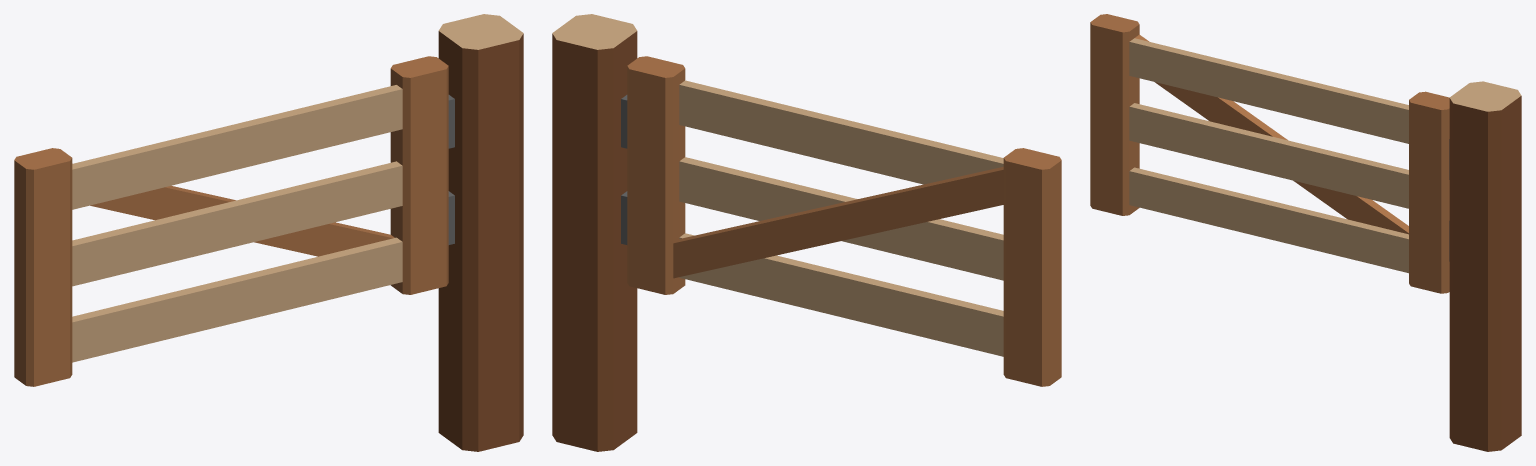
Rendered from Prop_Decorative_Fence_Gate_1.obj.
3 renders of one model, left to right at view 1: azimuth 30°, elevation 25°; view 2: azimuth 150°, elevation 25°; view 3: azimuth 330°, elevation 25°, orthographic. The views are drawn at different scales.
Visible parts, largest first — view 1: Fence_Gate_Rail, Fence_Gate_Post_Side, Fence_Gate_Side, Fence_Gate_Crossrail, Fence_Gate_Post_Top, Fence_Gate_Hinge; view 2: Fence_Gate_Rail, Fence_Gate_Post_Side, Fence_Gate_Side, Fence_Gate_Crossrail, Fence_Gate_Post_Top, Fence_Gate_Hinge; view 3: Fence_Gate_Rail, Fence_Gate_Post_Side, Fence_Gate_Side, Fence_Gate_Crossrail, Fence_Gate_Post_Top.
Part boxes in pixels (x1=…): Fence_Gate_Rail: x1=72, y1=85, x2=402, y2=362; Fence_Gate_Post_Side: x1=438, y1=31, x2=523, y2=451; Fence_Gate_Side: x1=14, y1=56, x2=448, y2=386; Fence_Gate_Crossrail: x1=90, y1=185, x2=394, y2=256; Fence_Gate_Post_Top: x1=438, y1=14, x2=523, y2=49; Fence_Gate_Hinge: x1=448, y1=95, x2=454, y2=244; Fence_Gate_Rail: x1=679, y1=80, x2=1003, y2=356; Fence_Gate_Post_Side: x1=552, y1=31, x2=637, y2=451; Fence_Gate_Side: x1=627, y1=56, x2=1061, y2=386; Fence_Gate_Crossrail: x1=673, y1=167, x2=1003, y2=278; Fence_Gate_Post_Top: x1=552, y1=14, x2=637, y2=49; Fence_Gate_Hinge: x1=621, y1=95, x2=627, y2=244; Fence_Gate_Rail: x1=1129, y1=38, x2=1408, y2=273; Fence_Gate_Post_Side: x1=1449, y1=96, x2=1521, y2=451; Fence_Gate_Side: x1=1090, y1=14, x2=1449, y2=293; Fence_Gate_Crossrail: x1=1134, y1=34, x2=1408, y2=234; Fence_Gate_Post_Top: x1=1449, y1=81, x2=1521, y2=111.
Bounding box in the file's own units: 1.6 × 1.25 × 0.2.
